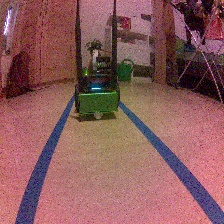rob: (73, 55, 120, 120)
